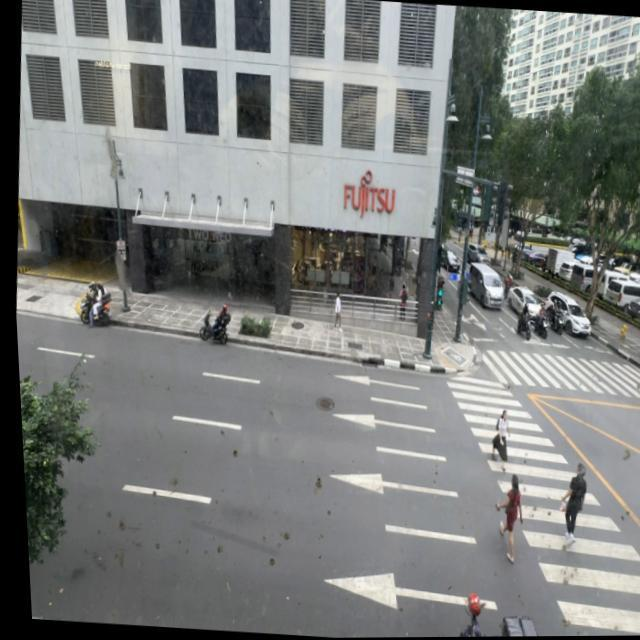jaywalking: (490, 470, 527, 562)
